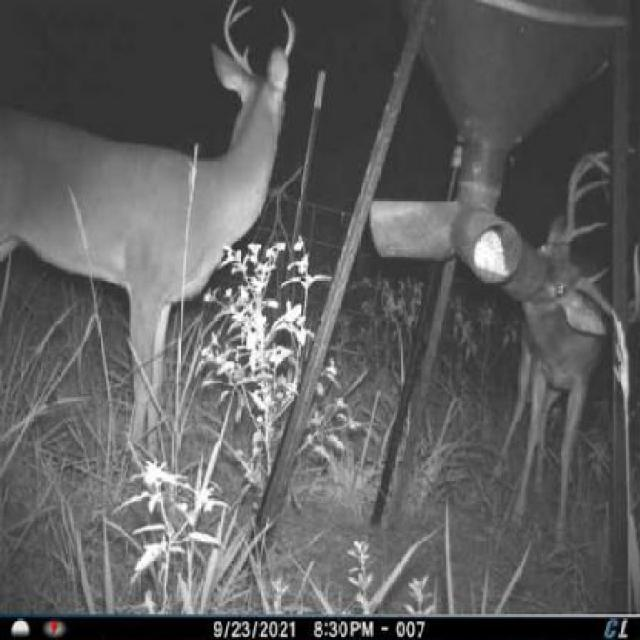Deer: (0, 0, 295, 503), (508, 139, 640, 541)
